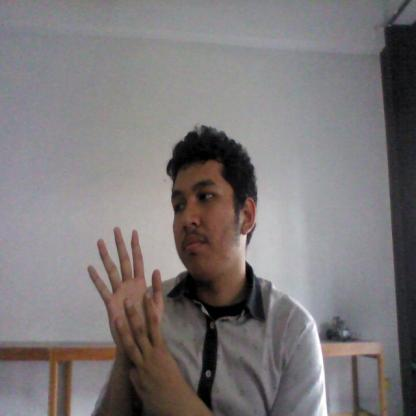M: (84, 219, 174, 396)
